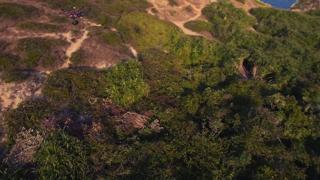UAV: (59, 8, 91, 25)
